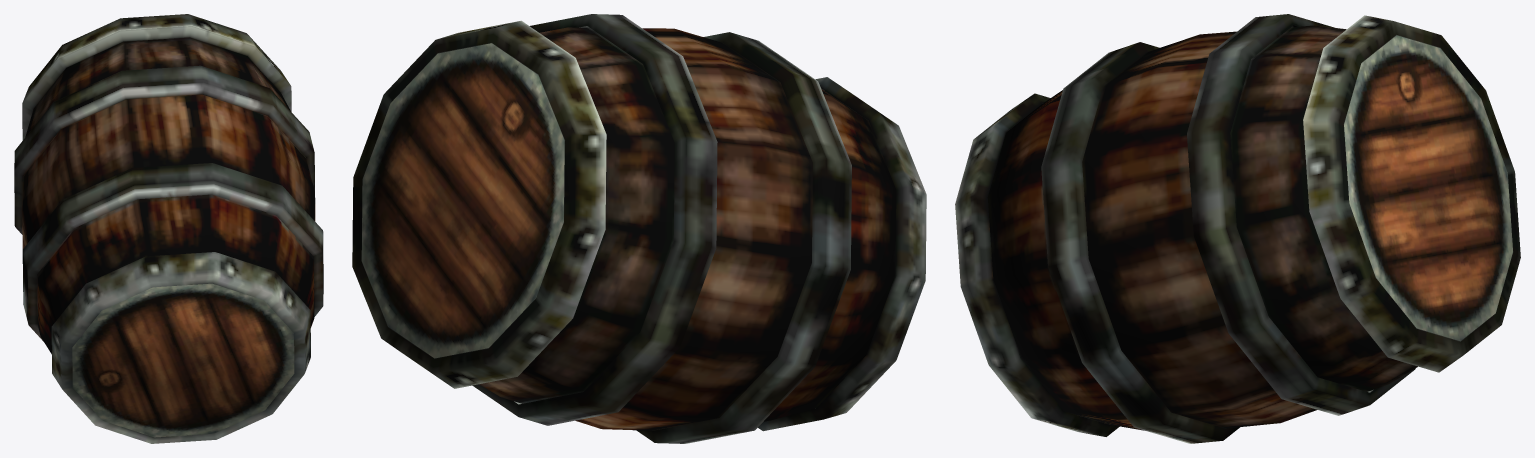
File: BILBO_JUMP_BARRELS.fbx
The picture shows the model from 3 angles, left to right: view 1: azimuth 30°, elevation 25°; view 2: azimuth 150°, elevation 25°; view 3: azimuth 270°, elevation 25°; orthographic projection. The views are drawn at different scales.
Visible parts, largest first — view 1: BILBO_JUMP_BARRELS; view 2: BILBO_JUMP_BARRELS; view 3: BILBO_JUMP_BARRELS.
Boxes of the visible parts, x1,y1,x2,y2 form: BILBO_JUMP_BARRELS: (14,14,323,443); BILBO_JUMP_BARRELS: (352,14,926,443); BILBO_JUMP_BARRELS: (955,14,1520,443).
Size of the model in its own units: 9430 by 9229 by 10939.
2 materials, 2 textured.
